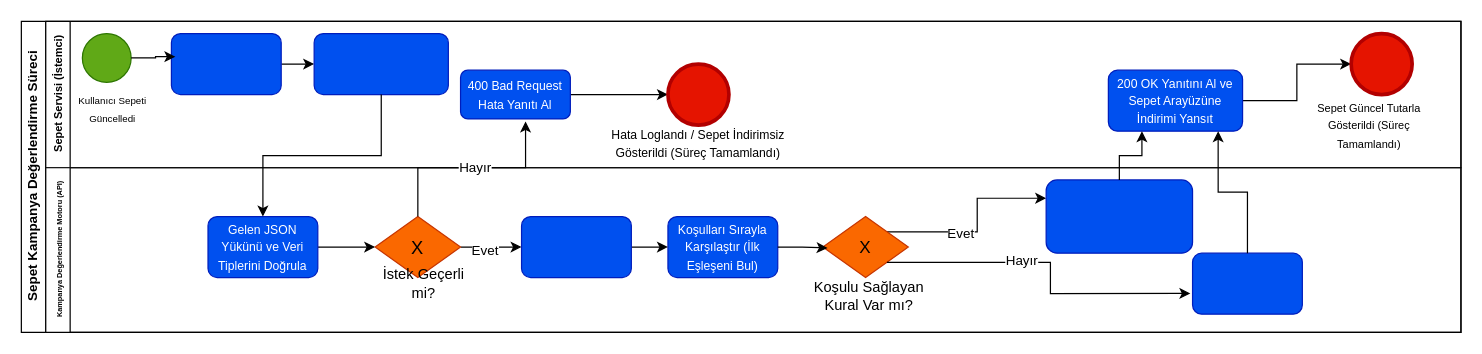
Some shapes in this 1482 by 354 pixel diagram are drawn without their labels. Here are the shapes that lost their labels. From the top down, the box of each, then its label:
(170, 32, 281, 95): Sepet Parametrelerini Hazırla (sepet_tutari, odeme_yontemi vb.)
(313, 32, 448, 95): POST /api/v1/kampanya/degerlendir İsteği Gönder
(1045, 179, 1193, 253): En Yüksek Öncelikli Kuralın İndirimini Hesapla ve Yanıtı Hazırla
(520, 215, 631, 278): Aktif Kuralları Öncelik Sırasına Göre Çek
(1191, 252, 1302, 314): 0 TL İndirim Yanıtı Hazırla (indirim_tutari: 0)
